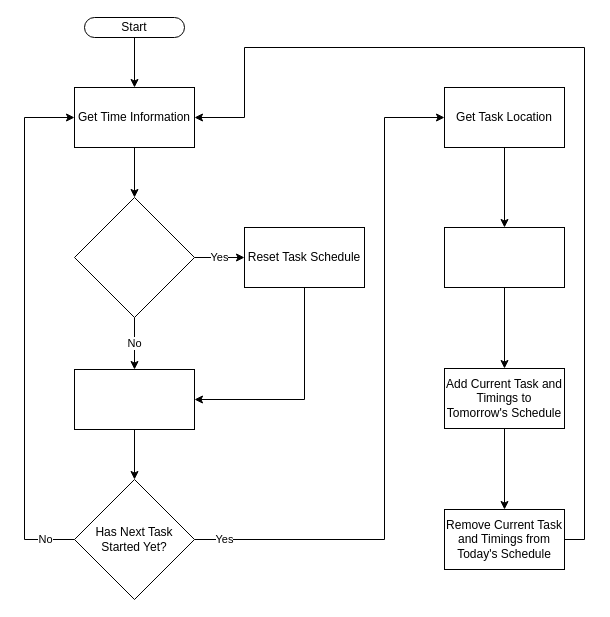
Some shapes in this 610 by 617 pixel diagram are drawn without their labels. The centre of each missing label's shape, as x and y in pixels:
"Has Day Changed?" goes at (134,257).
"Look at Next Task" goes at (134,399).
"Move to Target Location" goes at (504,257).
